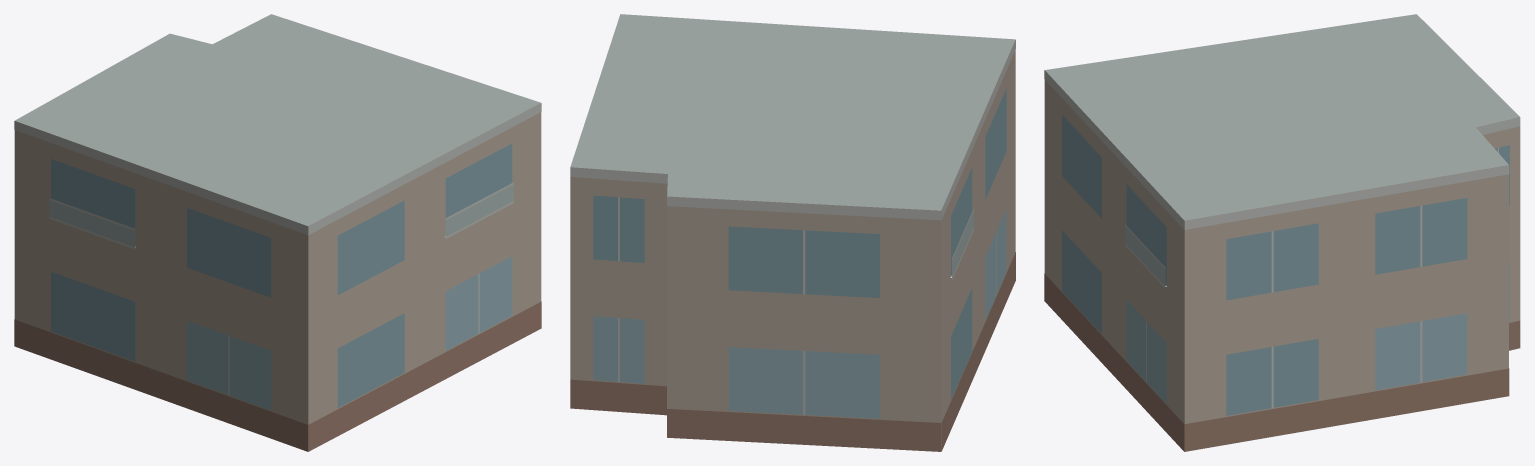
Rendered from survey-upis-32698427.glb.
3 renders of one model, left to right at view 1: azimuth 30°, elevation 25°; view 2: azimuth 150°, elevation 25°; view 3: azimuth 270°, elevation 25°, orthographic. The views are drawn at different scales.
Parts seen in each view (by area): view 1: survey-upis-32698427.tmp; view 2: survey-upis-32698427.tmp; view 3: survey-upis-32698427.tmp.
Boxes of the visible parts, x1=… form: survey-upis-32698427.tmp: x1=14, y1=14, x2=541, y2=451; survey-upis-32698427.tmp: x1=570, y1=14, x2=1015, y2=451; survey-upis-32698427.tmp: x1=1044, y1=14, x2=1520, y2=451.
Bounding box in the file's own units: 11.72 × 6.1 × 11.39.
